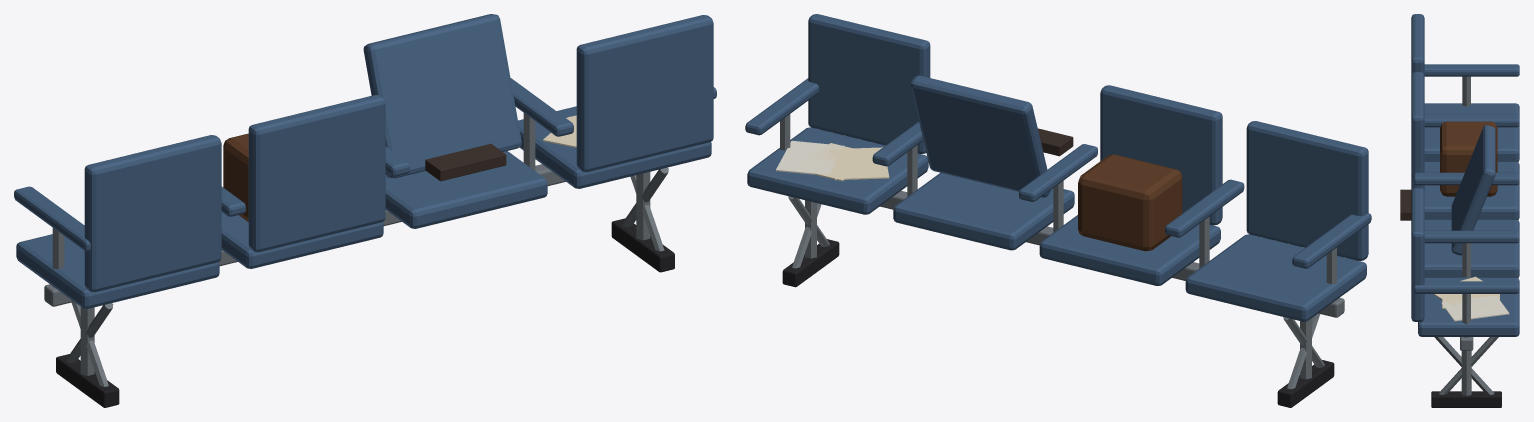
Rendered from waiting_chairs.glb.
The picture shows the model from 3 angles, left to right: view 1: azimuth 30°, elevation 25°; view 2: azimuth 150°, elevation 25°; view 3: azimuth 270°, elevation 25°; orthographic projection. The views are drawn at different scales.
Visible parts, largest first — view 1: waiting_chairs; view 2: waiting_chairs; view 3: waiting_chairs.
Boxes of the visible parts, x1,y1,x2,y2 form: waiting_chairs: (14,14,716,407); waiting_chairs: (745,14,1371,407); waiting_chairs: (1400,14,1519,407).
Size of what is drawn, in the model's own units: 2.4 by 0.9438 by 0.54.
3 materials, 3 textured.
